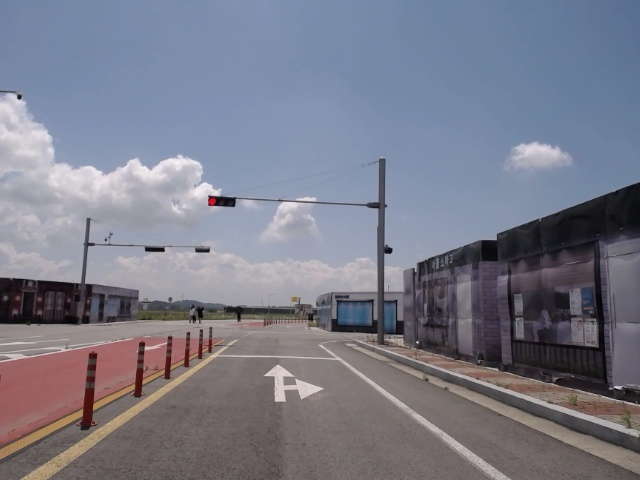red_3: (206, 196, 237, 208)
